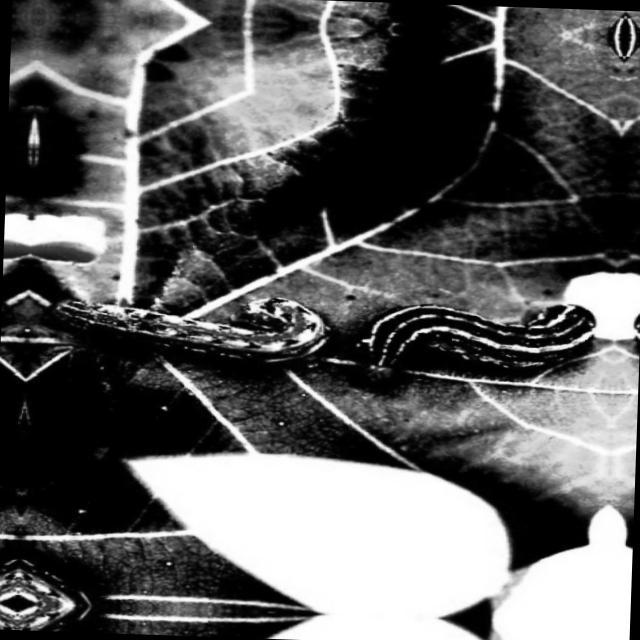Armyworm: (49, 266, 333, 382), (346, 283, 611, 399)
